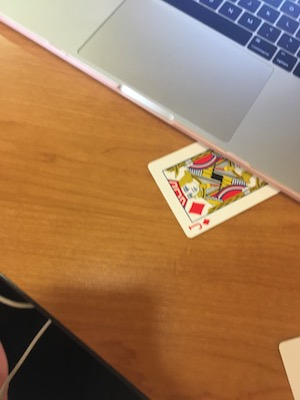JackOfDiamonds: (141, 135, 284, 244)
